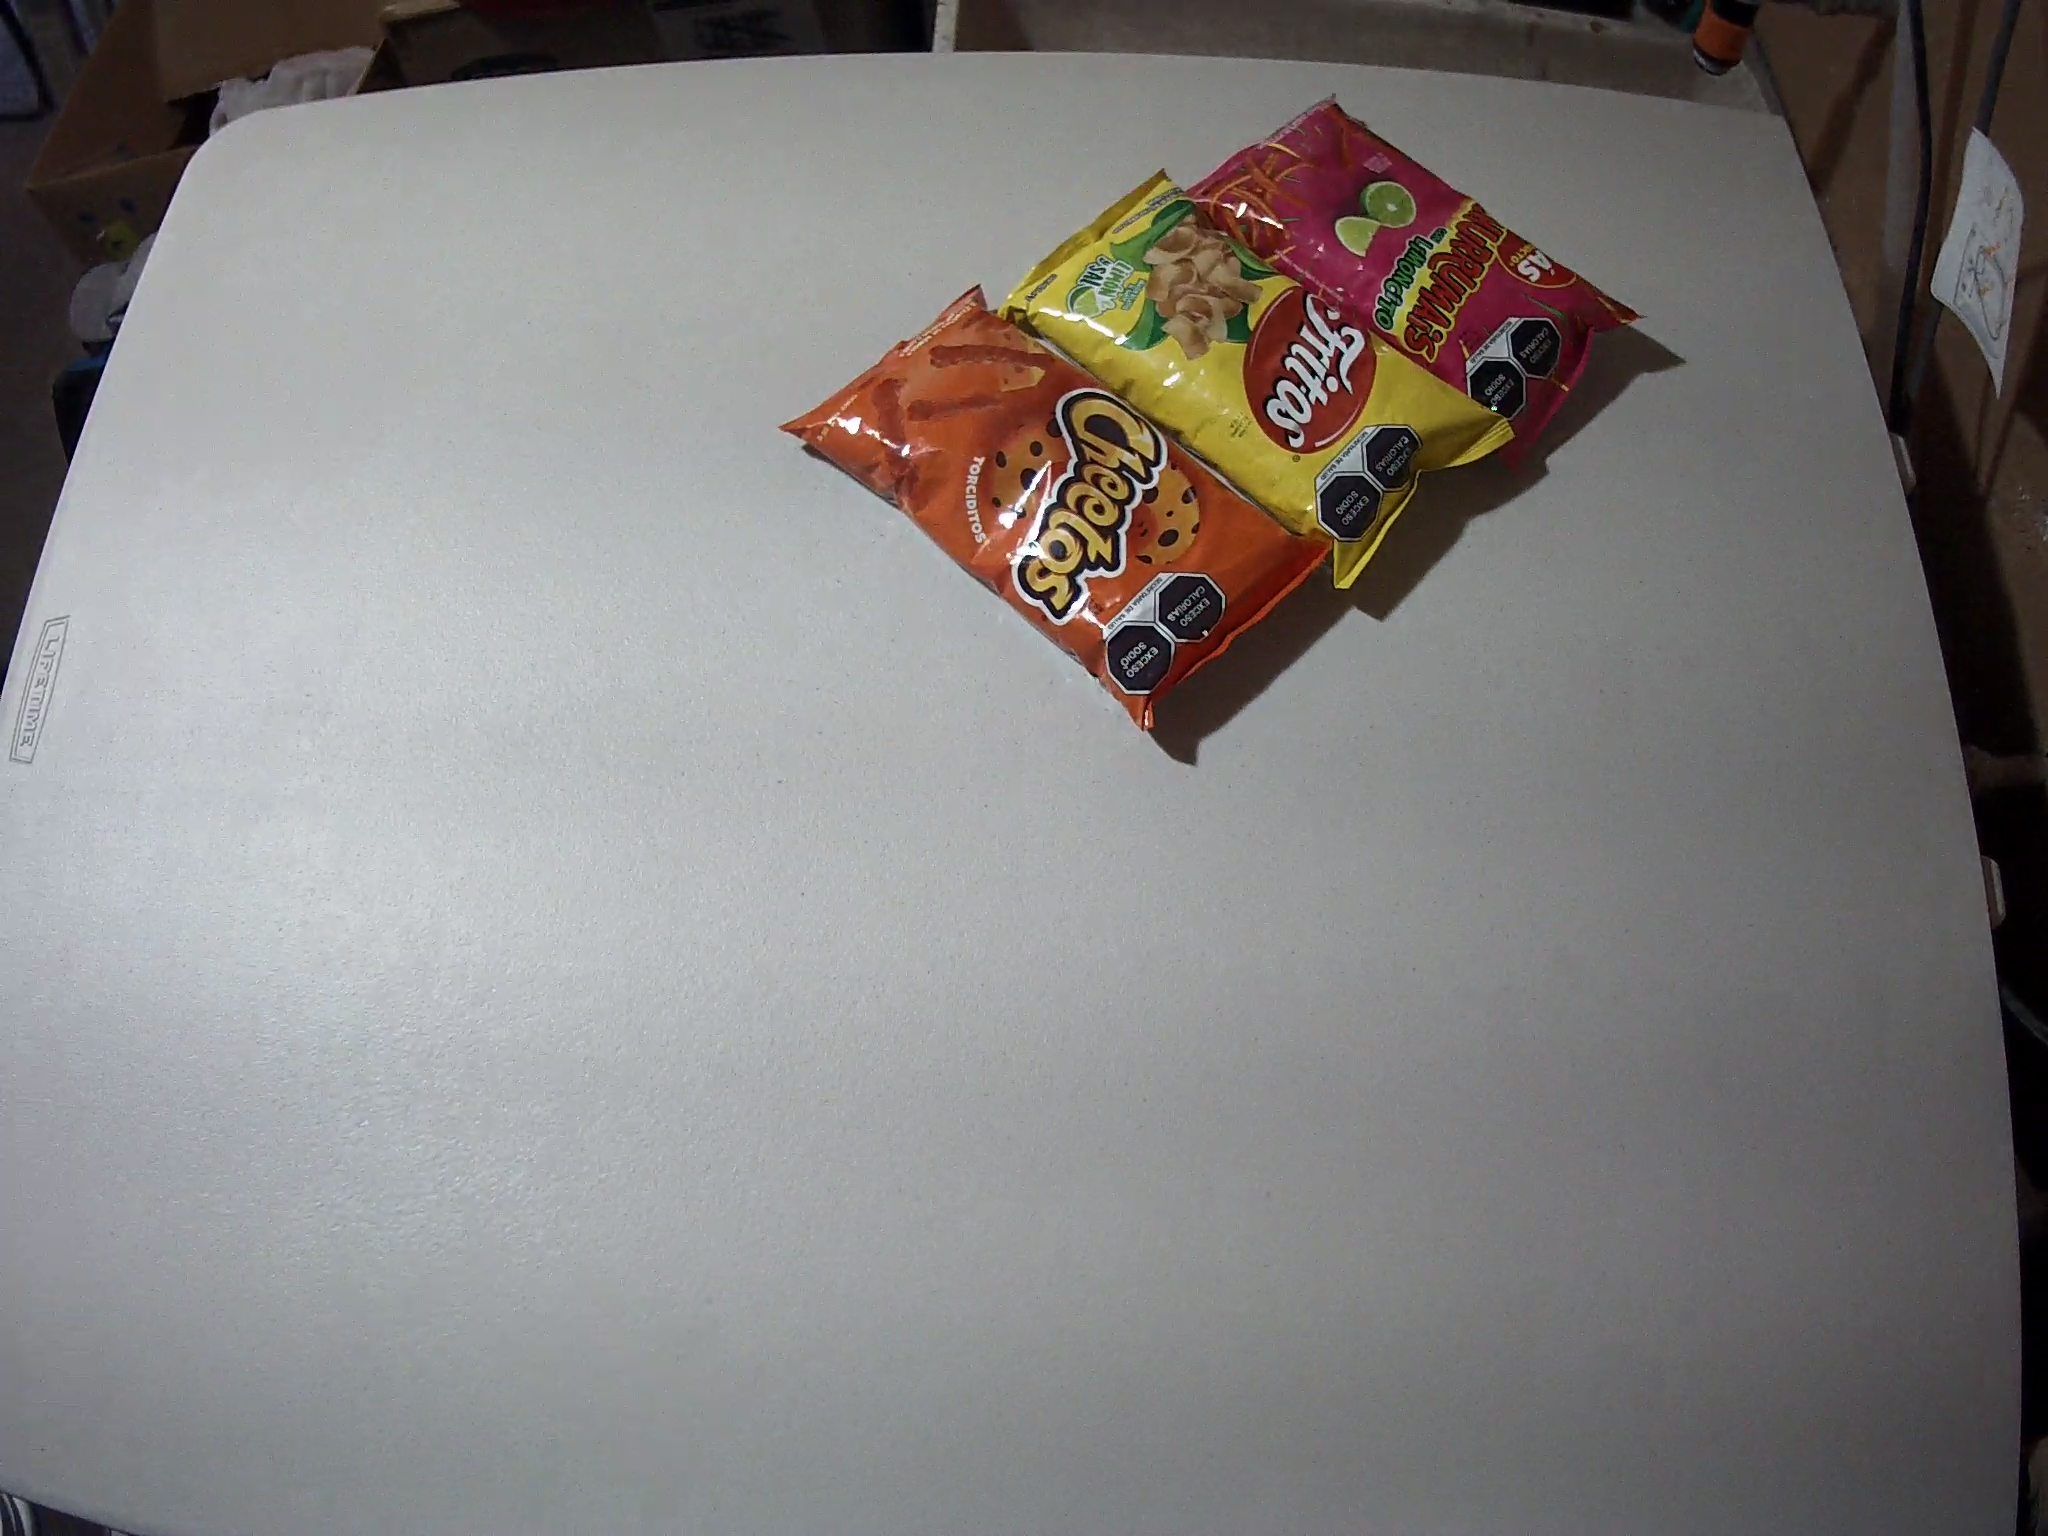CheetosTorciditos_55_F: (777, 286, 1337, 733)
Churrumais_70_F: (1180, 94, 1646, 478)
FritosSalLimon_65_F: (992, 168, 1522, 594)
